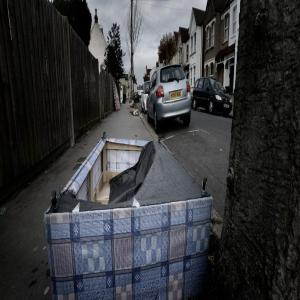Vehicle-registration-plate: (170, 90, 182, 101), (225, 105, 230, 108)
